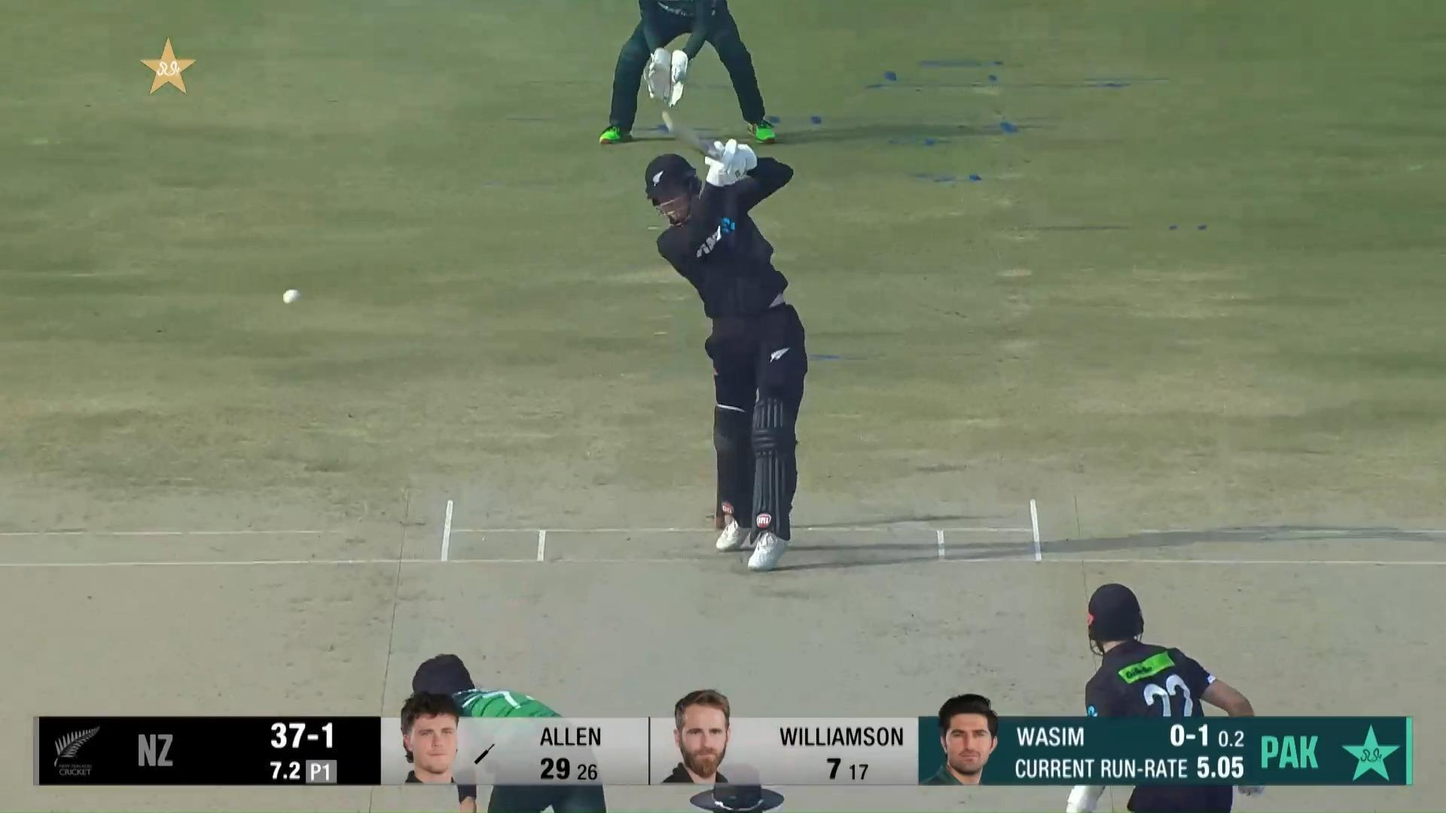BM 1: (644, 106, 810, 572)
BO: (410, 652, 606, 813)
